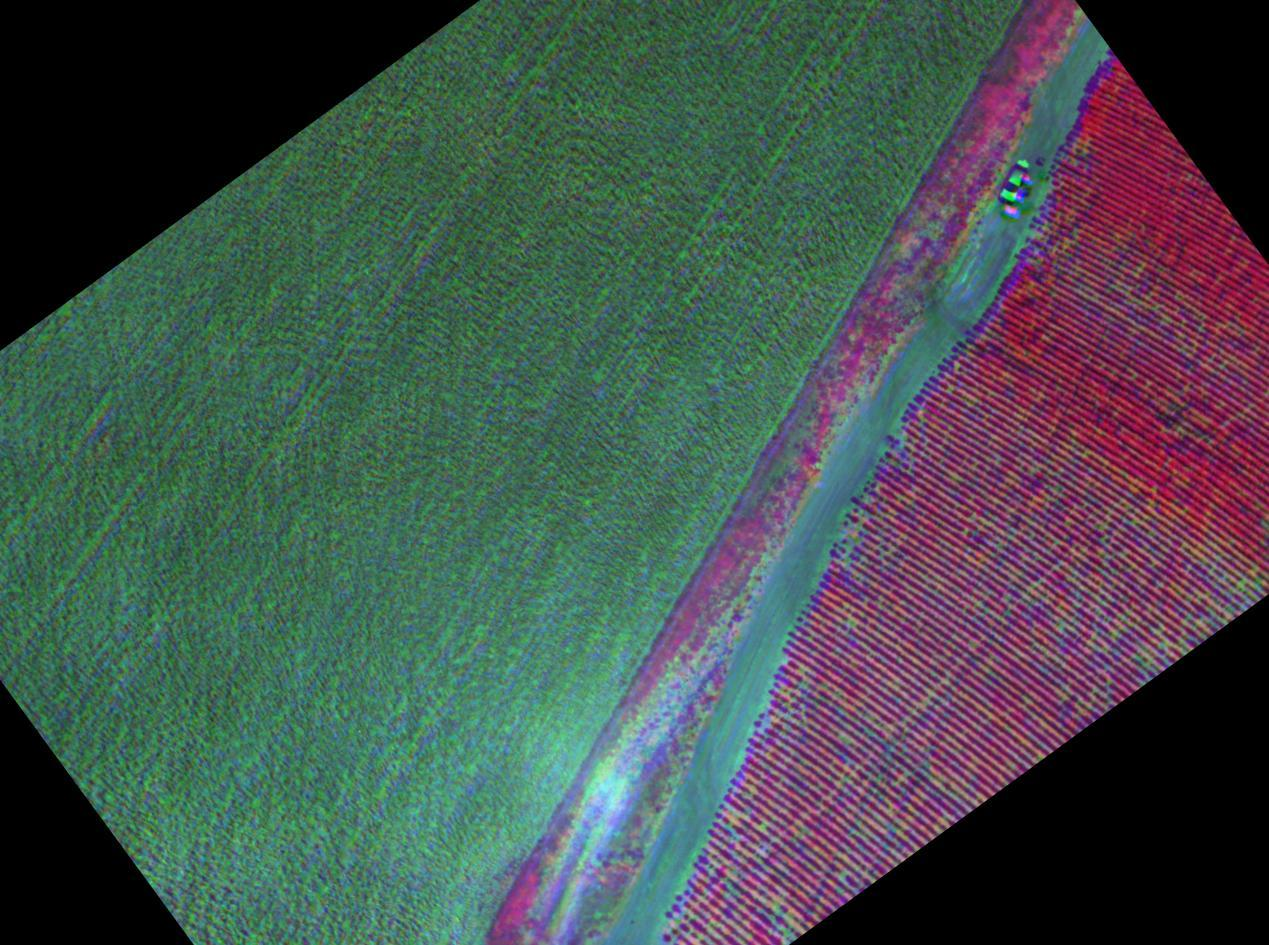dc: (834, 726, 889, 758), (1057, 608, 1100, 643), (765, 896, 798, 941), (1140, 627, 1174, 668), (835, 517, 868, 559), (1230, 569, 1264, 601)
